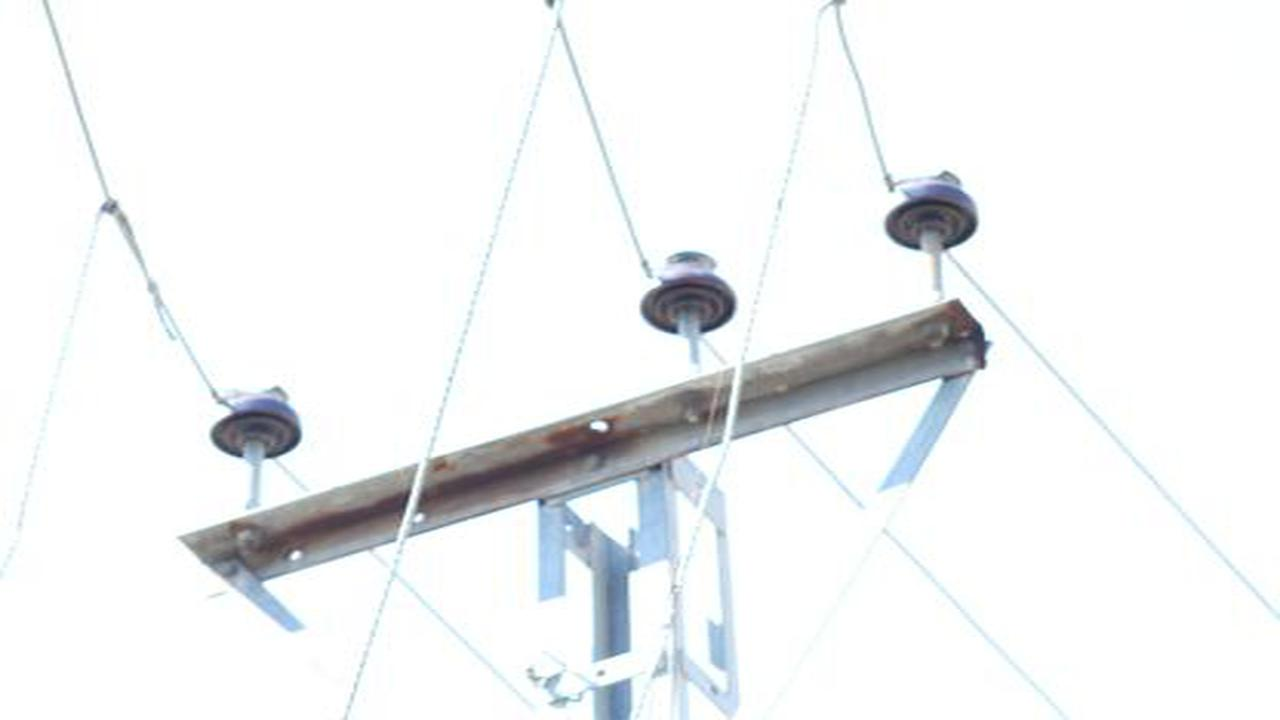insulator_pin: (636, 245, 741, 335), (876, 170, 982, 258), (206, 379, 305, 463)
